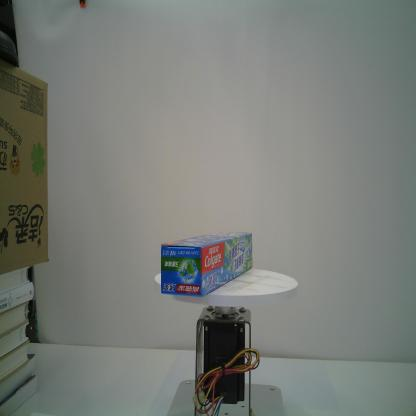Personal Hygiene: (160, 231, 254, 298)
